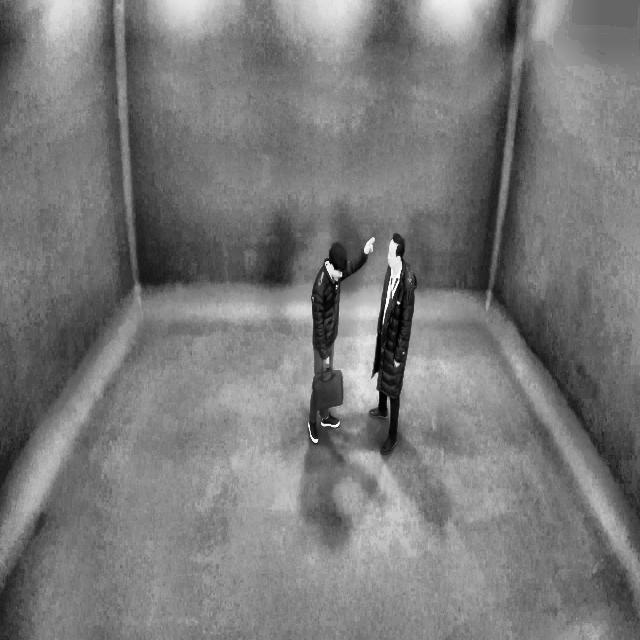assult: (303, 220, 416, 462)
